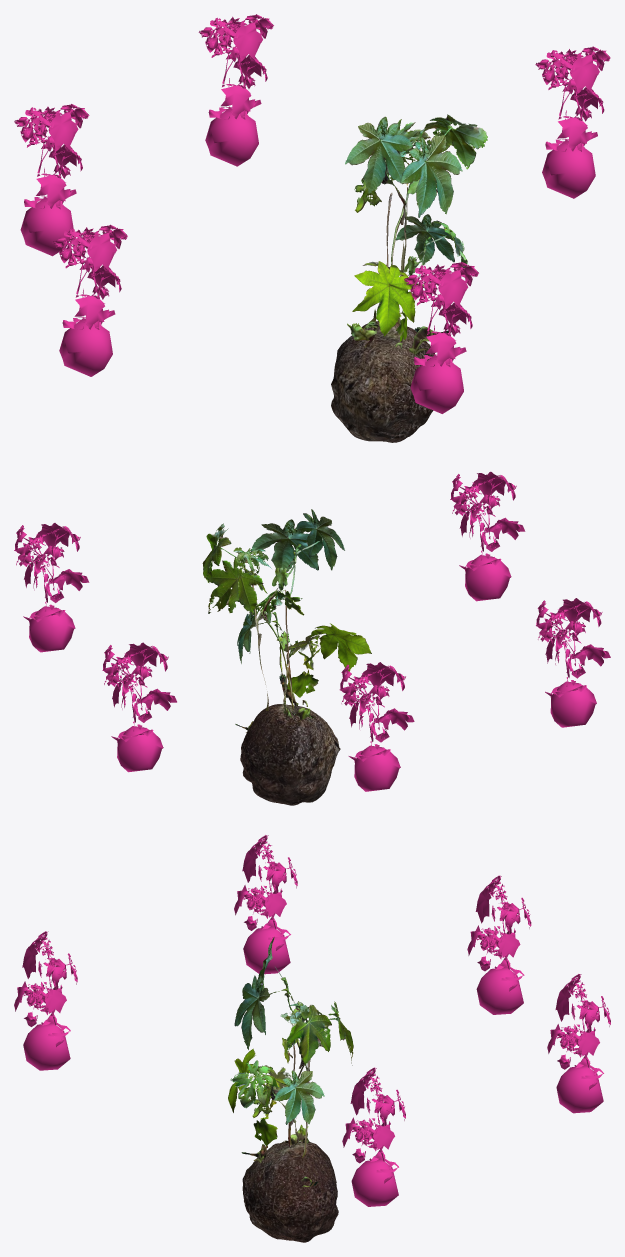
Rendered from theyhadaplant.glb.
3 views of the same model, one above another, from view 1: azimuth 30°, elevation 25°; view 2: azimuth 150°, elevation 25°; view 3: azimuth 270°, elevation 25° (orthographic). The views are drawn at different scales.
Visible parts, largest first — view 1: soil_reLo, leaf tall 1, leaf_small_magenta.001, leaf_small_magenta.003, leaf_small_magenta, leaf_small_magenta.004, leaf_small_magenta.002, leaf tall 2, leaf_lower, leaf mid; view 2: soil_reLo, leaf_small_magenta.002, leaf_small_magenta.001, leaf_small_magenta.004, leaf_small_magenta.003, leaf_small_magenta, leaf tall 1, leaf tall 2, leaf_lower, leaf mid; view 3: soil_reLo, leaf_small_magenta.002, leaf_small_magenta, leaf_small_magenta.003, leaf_small_magenta.004, leaf_small_magenta.001, leaf mid, leaf tall 2, leaf tall 1, leaf_lower.
Boxes of the visible parts, box(x1,y1,x2,y2) form: soil_reLo: box(331, 321, 434, 442); leaf tall 1: box(345, 116, 462, 355); leaf_small_magenta.001: box(53, 224, 127, 376); leaf_small_magenta.003: box(198, 14, 273, 166); leaf_small_magenta: box(404, 261, 478, 413); leaf_small_magenta.004: box(535, 46, 610, 198); leaf_small_magenta.002: box(14, 104, 89, 256); leaf tall 2: box(347, 114, 487, 347); leaf_lower: box(352, 261, 415, 341); leaf mid: box(386, 214, 467, 332); soil_reLo: box(240, 704, 340, 805); leaf_small_magenta.002: box(339, 662, 414, 791); leaf_small_magenta.001: box(536, 598, 610, 727); leaf_small_magenta.004: box(14, 523, 89, 652); leaf_small_magenta.003: box(102, 642, 176, 772); leaf_small_magenta: box(450, 471, 525, 601); leaf tall 1: box(250, 509, 344, 710); leaf tall 2: box(202, 523, 315, 722); leaf_lower: box(283, 623, 371, 697); leaf mid: box(235, 590, 297, 732); soil_reLo: box(242, 1141, 338, 1242); leaf_small_magenta.002: box(467, 875, 531, 1014); leaf_small_magenta: box(14, 931, 77, 1070); leaf_small_magenta.003: box(547, 974, 610, 1113); leaf_small_magenta.004: box(342, 1067, 405, 1206); leaf_small_magenta.001: box(234, 835, 297, 974); leaf mid: box(230, 1060, 324, 1193); leaf tall 2: box(280, 1001, 353, 1147); leaf tall 1: box(234, 937, 310, 1162); leaf_lower: box(228, 1048, 292, 1146).
Bounding box in the file's own units: 4.57 × 2.34 × 4.36.
Materials: 6 (5 with a texture image).
